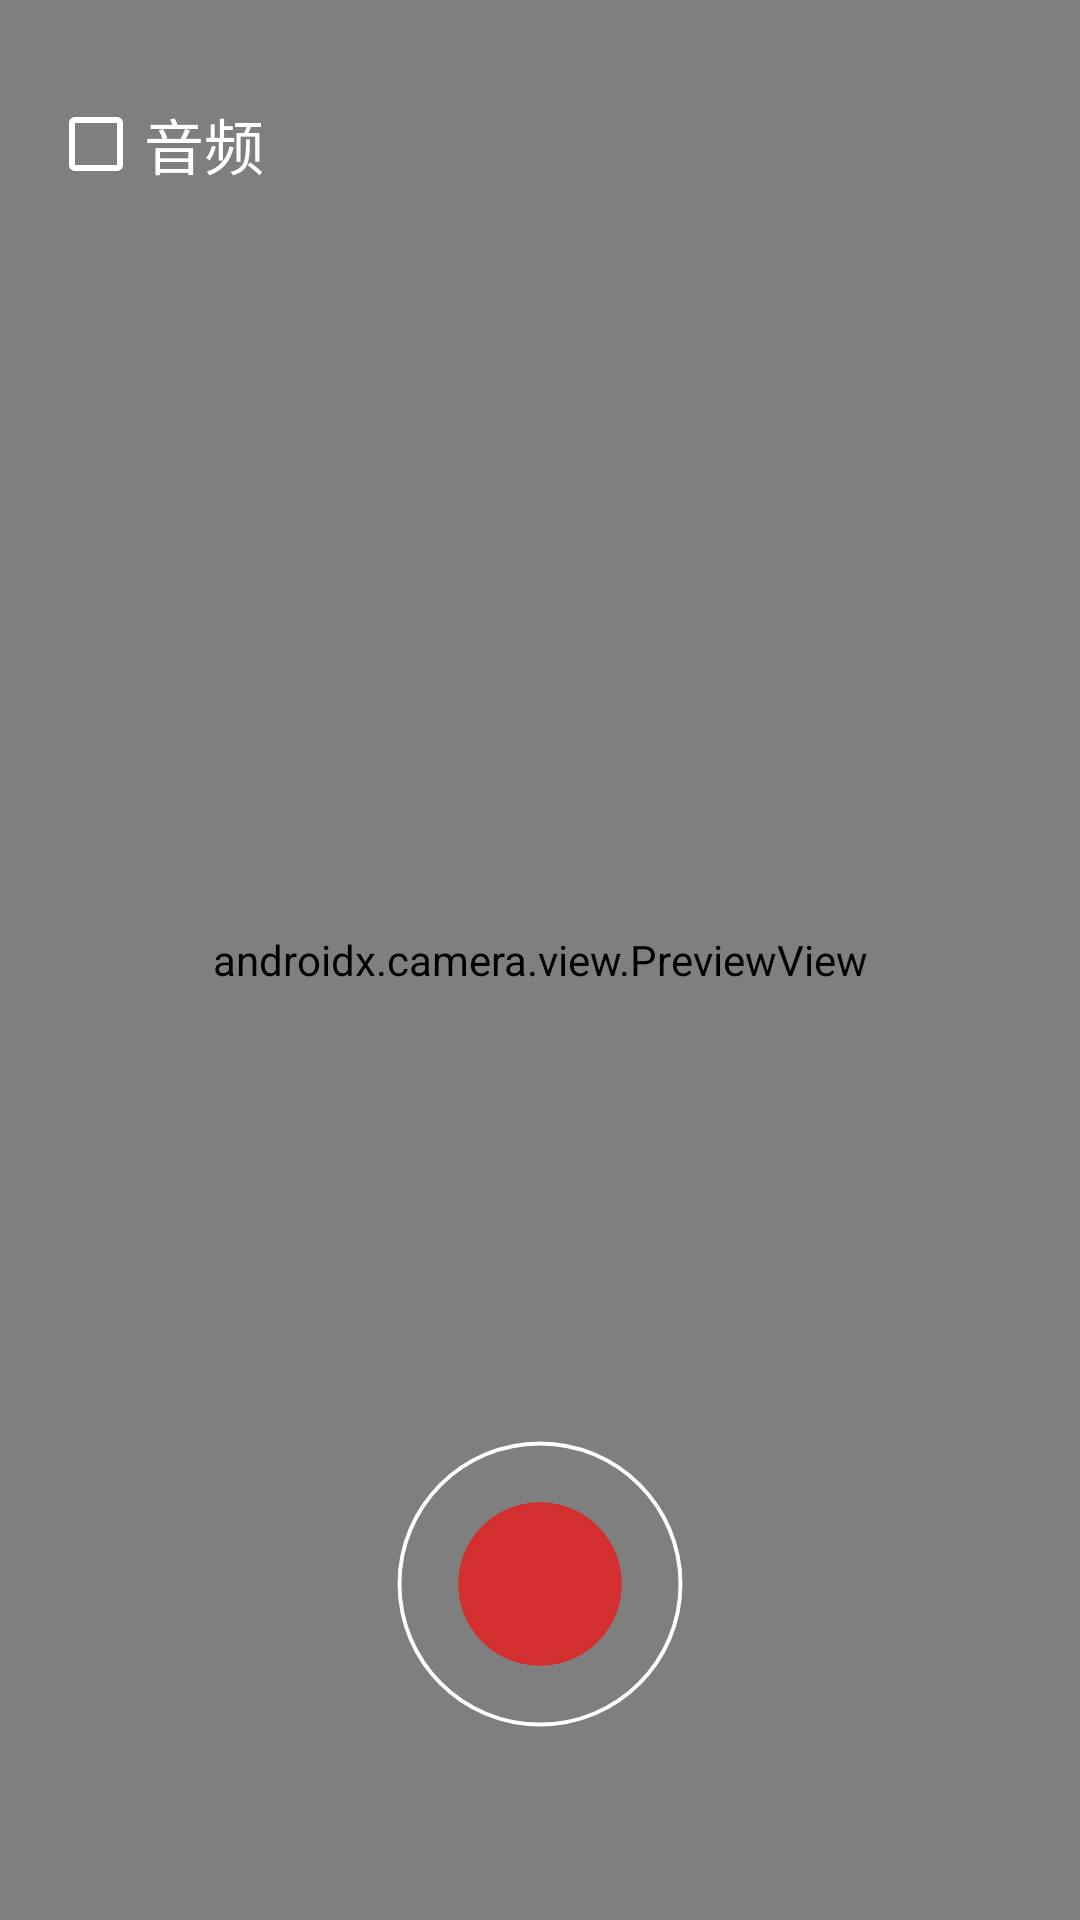

Where to tap for icons on this 1080 × 1920 app screen, as point (x, y):
录制: point (540, 1584)
